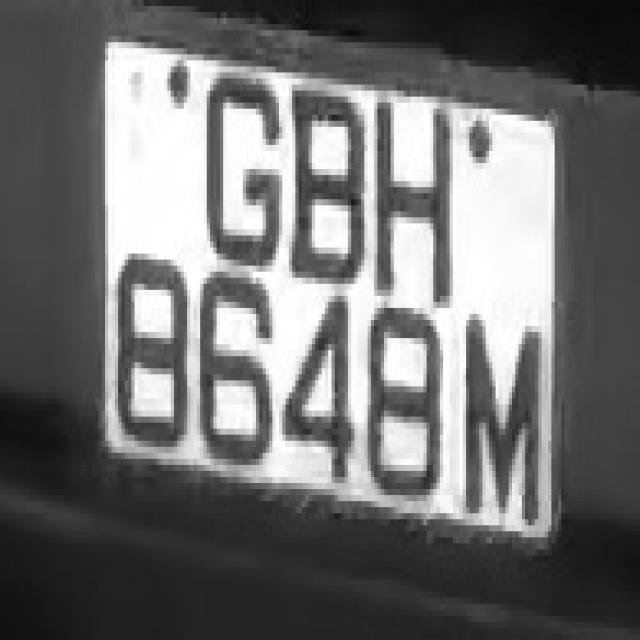4: (279, 266, 364, 513)
6: (197, 254, 285, 501)
8: (361, 290, 450, 519), (112, 229, 194, 471)
B: (282, 48, 368, 302)
G: (194, 48, 288, 284)
H: (371, 85, 466, 320)
M: (459, 284, 552, 531)
